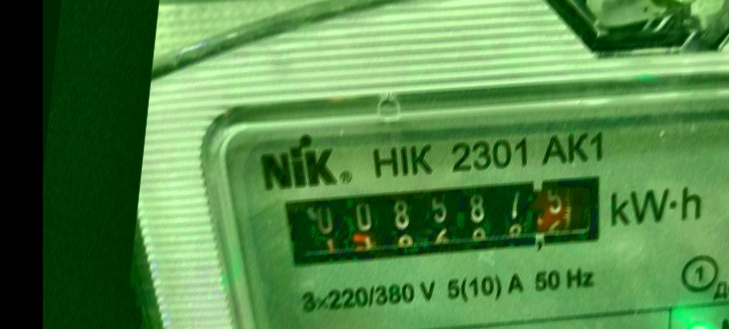0: (348, 195, 377, 232), (310, 199, 339, 234)
5: (425, 190, 451, 224), (541, 180, 566, 213)
6: (544, 216, 563, 234)
7: (501, 185, 526, 221)
8: (388, 196, 415, 230), (463, 188, 489, 223)
screen: (269, 142, 627, 299)
